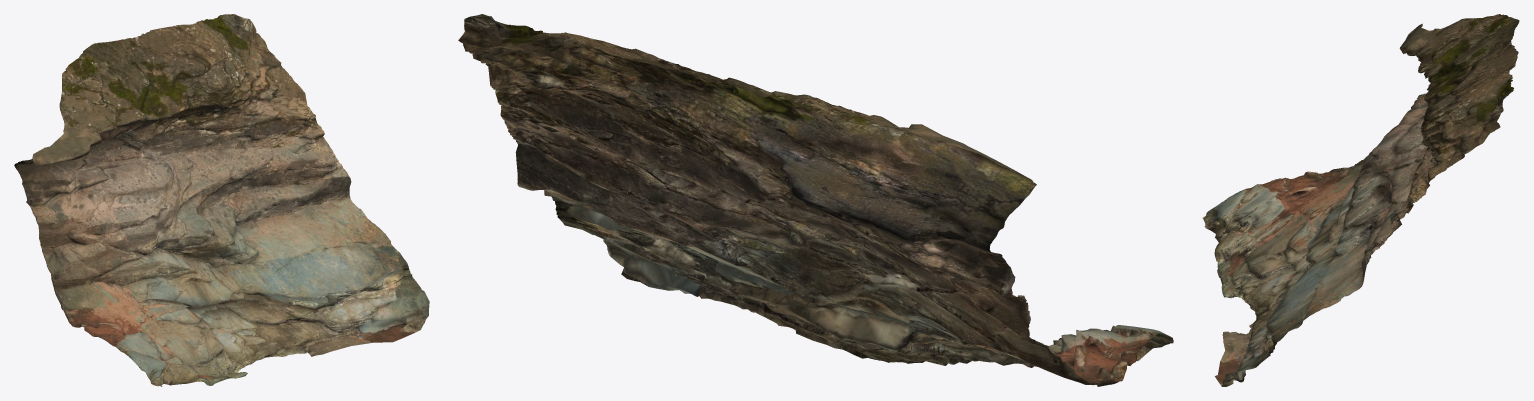
Rendered from rock_face_01.glb.
The picture shows the model from 3 angles, left to right: view 1: azimuth 30°, elevation 25°; view 2: azimuth 150°, elevation 25°; view 3: azimuth 270°, elevation 25°; orthographic projection. The views are drawn at different scales.
Visible parts, largest first — view 1: rock_face_01; view 2: rock_face_01; view 3: rock_face_01.
Part boxes in pixels (x1=…): rock_face_01: x1=14, y1=14, x2=429, y2=386; rock_face_01: x1=458, y1=14, x2=1173, y2=386; rock_face_01: x1=1202, y1=14, x2=1519, y2=386.
Size of the model in its own units: 4.95 by 3.56 by 3.83.
Materials: 1 (1 with a texture image).
